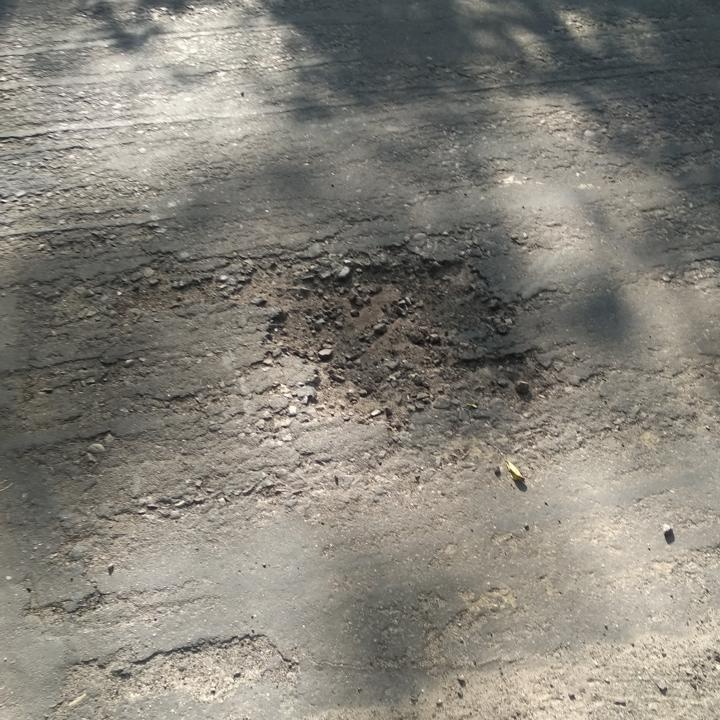pothole: (256, 247, 527, 422), (118, 626, 286, 703)
